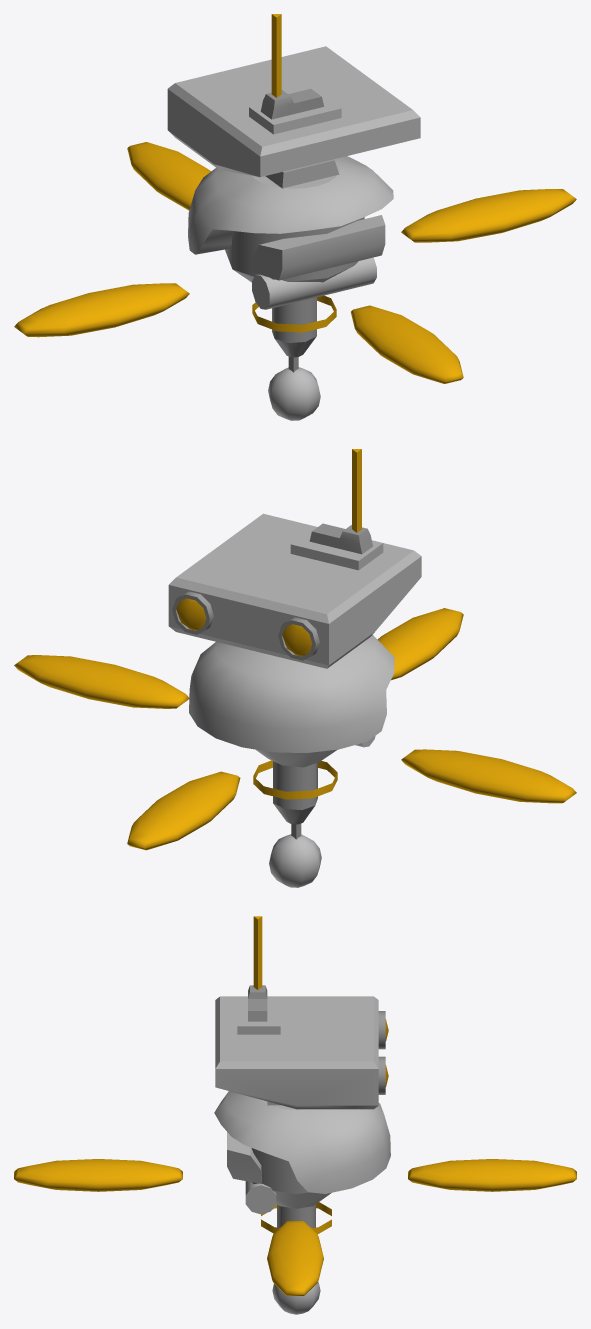
The model's file is Gyrobot (2).fbx.
3 renders of one model, top to bottom at view 1: azimuth 30°, elevation 25°; view 2: azimuth 150°, elevation 25°; view 3: azimuth 270°, elevation 25°, orthographic. The views are drawn at different scales.
Parts seen in each view (by area): view 1: Head, Body, Blades, Body_Lower, Body_Mid, Ring; view 2: Head, Body, Blades, Body_Lower, Body_Mid, Ring; view 3: Head, Body, Blades, Body_Lower, Body_Mid.
Part boxes in pixels (x1,y1,x2,y2): Head: [167, 14, 420, 177]; Body: [188, 156, 393, 309]; Blades: [14, 142, 576, 383]; Body_Lower: [268, 356, 320, 420]; Body_Mid: [272, 297, 316, 357]; Ring: [252, 295, 336, 332]; Head: [168, 449, 421, 668]; Body: [189, 634, 394, 767]; Blades: [14, 608, 576, 850]; Body_Lower: [269, 823, 321, 887]; Body_Mid: [273, 761, 317, 824]; Ring: [253, 760, 337, 799]; Head: [215, 916, 388, 1109]; Body: [214, 1091, 390, 1214]; Blades: [14, 1159, 576, 1295]; Body_Lower: [272, 1282, 320, 1314]; Body_Mid: [277, 1204, 315, 1227].
Bounding box in the file's own units: 29.18 × 21.63 × 29.18.
